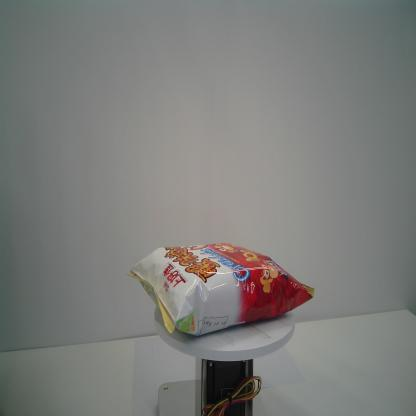Puffed Food: (127, 239, 315, 339)
